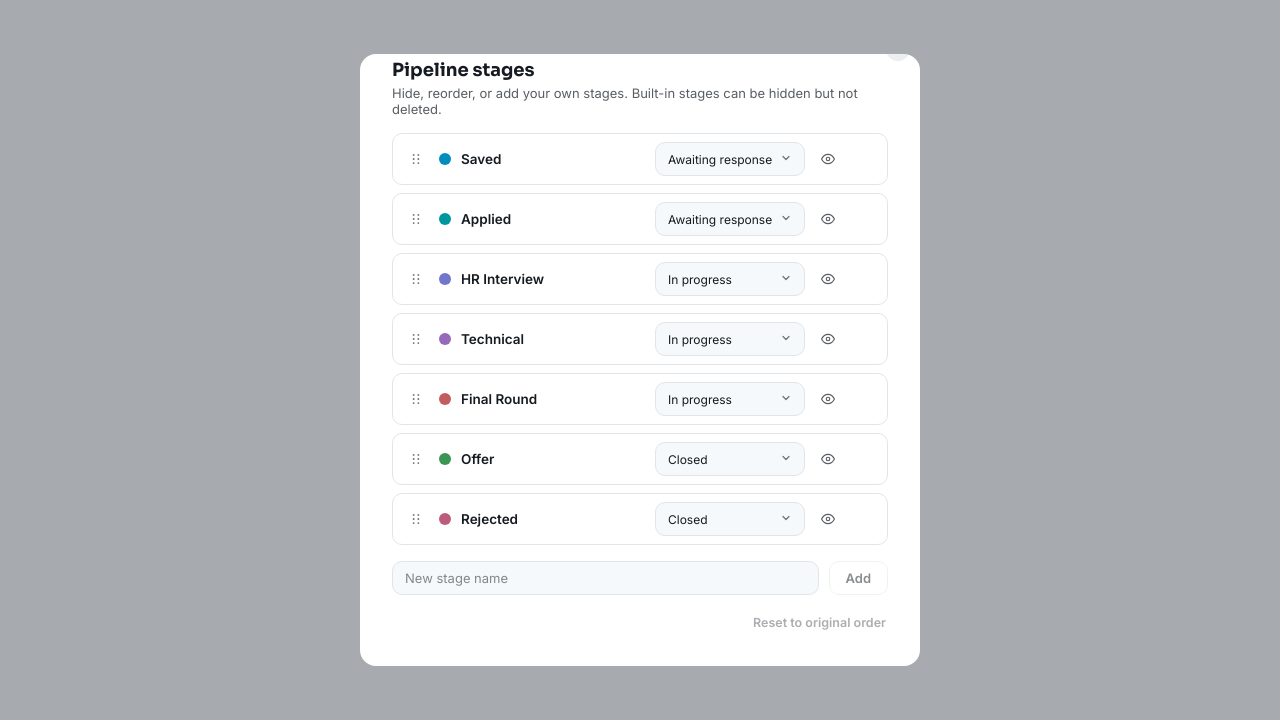
Scenario: PipelineStagesModal › bulk-reassigns applications then hides the stage on confirm
(page scrolled)
Check: the text "Saved" is shown, box [461,151,501,167]
Click the button named "Hide" in the row of "Saved": x=828, y=159 [815,146,841,172]
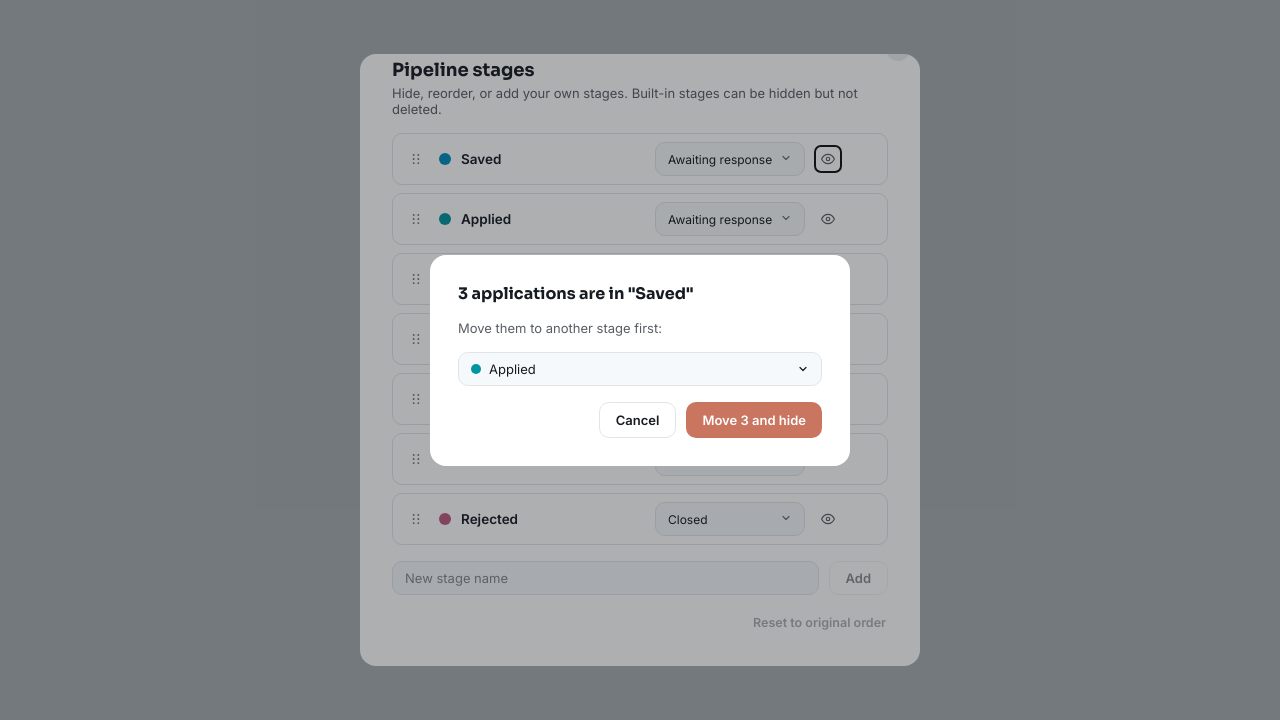
Check: the heading "3 applications are in \"Saved\"" is shown, box [458,282,694,304]
Click the button "Move 3 and hide": x=754, y=420 [686,402,822,438]
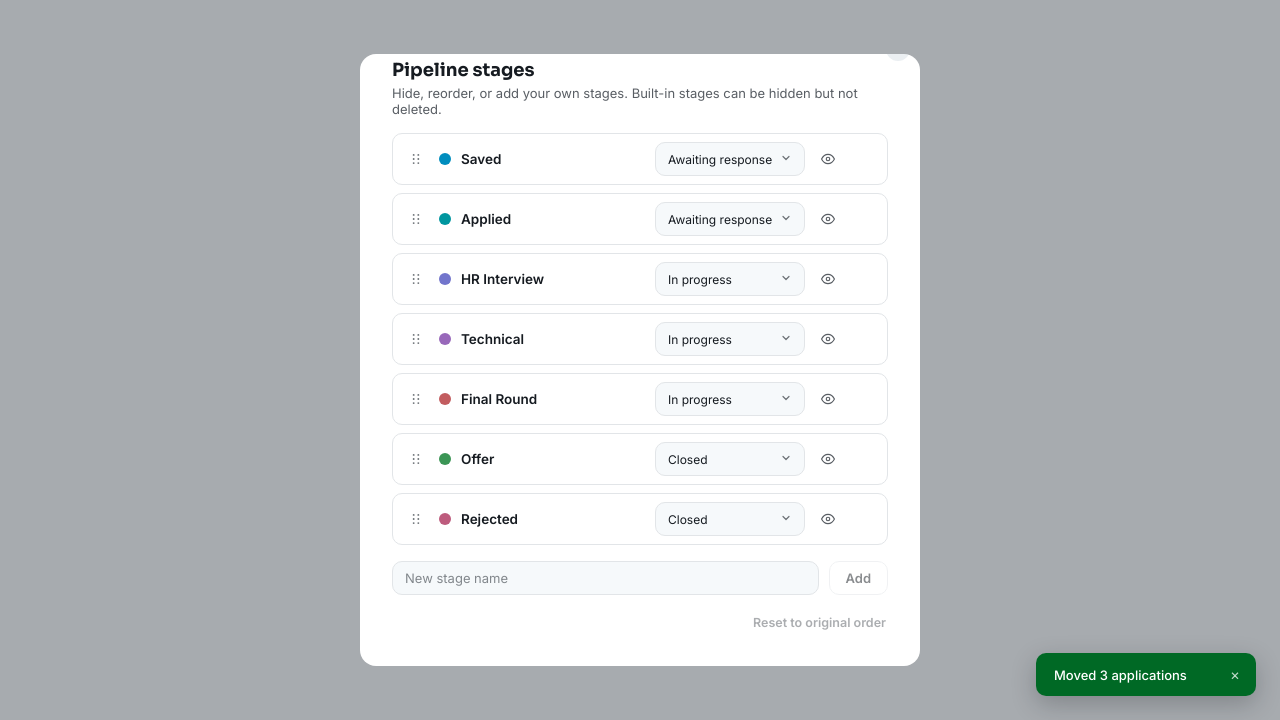
Check: the text "Moved 3 applications" is shown, box [1054,666,1187,682]
